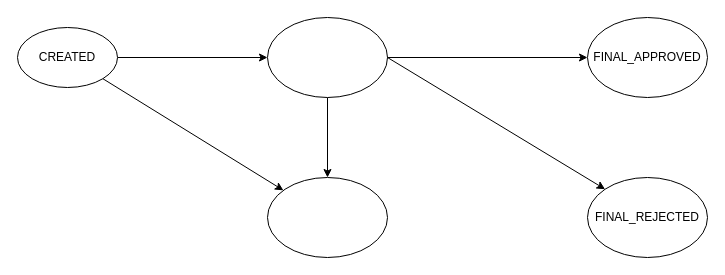
Image size: 725x275. Some labels were removed from this diagram. Here are the shapes that lost their labels. From the top down, the centre of each, then its label:
[327,57]: FIRST_APPROVED
[327,217]: FIRST_REJECTED
